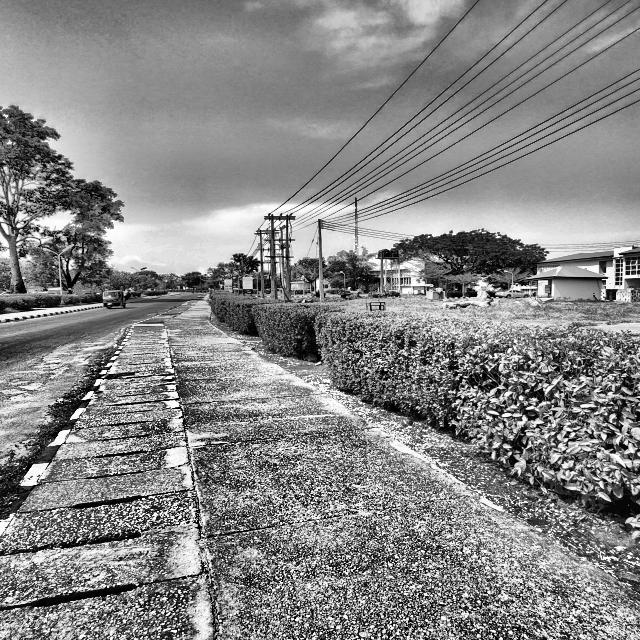poles: (260, 212, 305, 320)
sidewalks: (12, 324, 640, 640)
